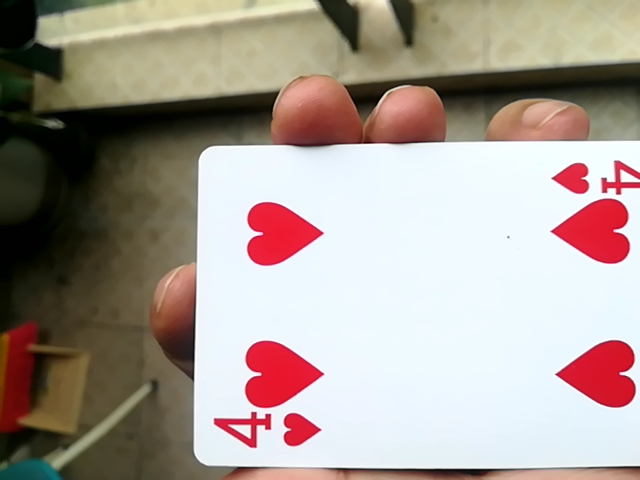hx 4: (206, 133, 640, 475)
